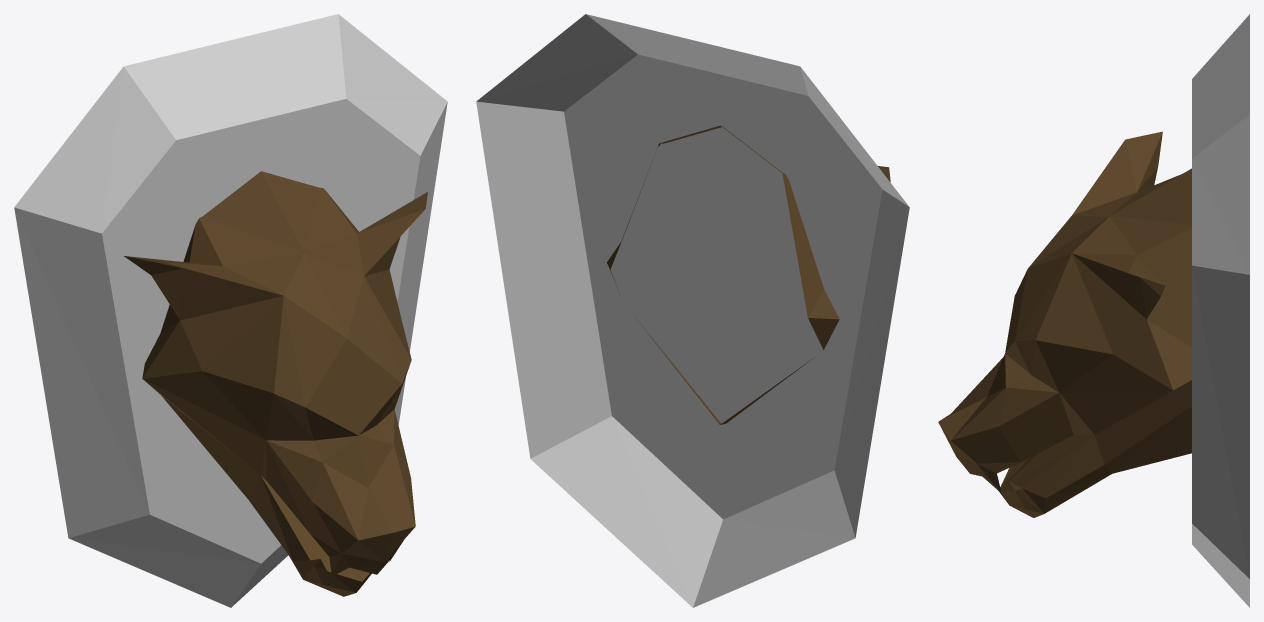
The model's file is NW_CITY_DECO_WOLFHEAD_01.OBJ.
3 views of the same model, side by side, from view 1: azimuth 30°, elevation 25°; view 2: azimuth 150°, elevation 25°; view 3: azimuth 270°, elevation 25° (orthographic). The views are drawn at different scales.
Parts seen in each view (by area): view 1: NW_CITY_DECO_WOLFHEAD_01; view 2: NW_CITY_DECO_WOLFHEAD_01; view 3: NW_CITY_DECO_WOLFHEAD_01.
Boxes of the visible parts, <box> form: NW_CITY_DECO_WOLFHEAD_01: <box>14,14,447,607</box>; NW_CITY_DECO_WOLFHEAD_01: <box>476,14,909,607</box>; NW_CITY_DECO_WOLFHEAD_01: <box>938,14,1249,607</box>.
Bounding box in the file's own units: 0.8273 × 1.04 × 0.5379.
